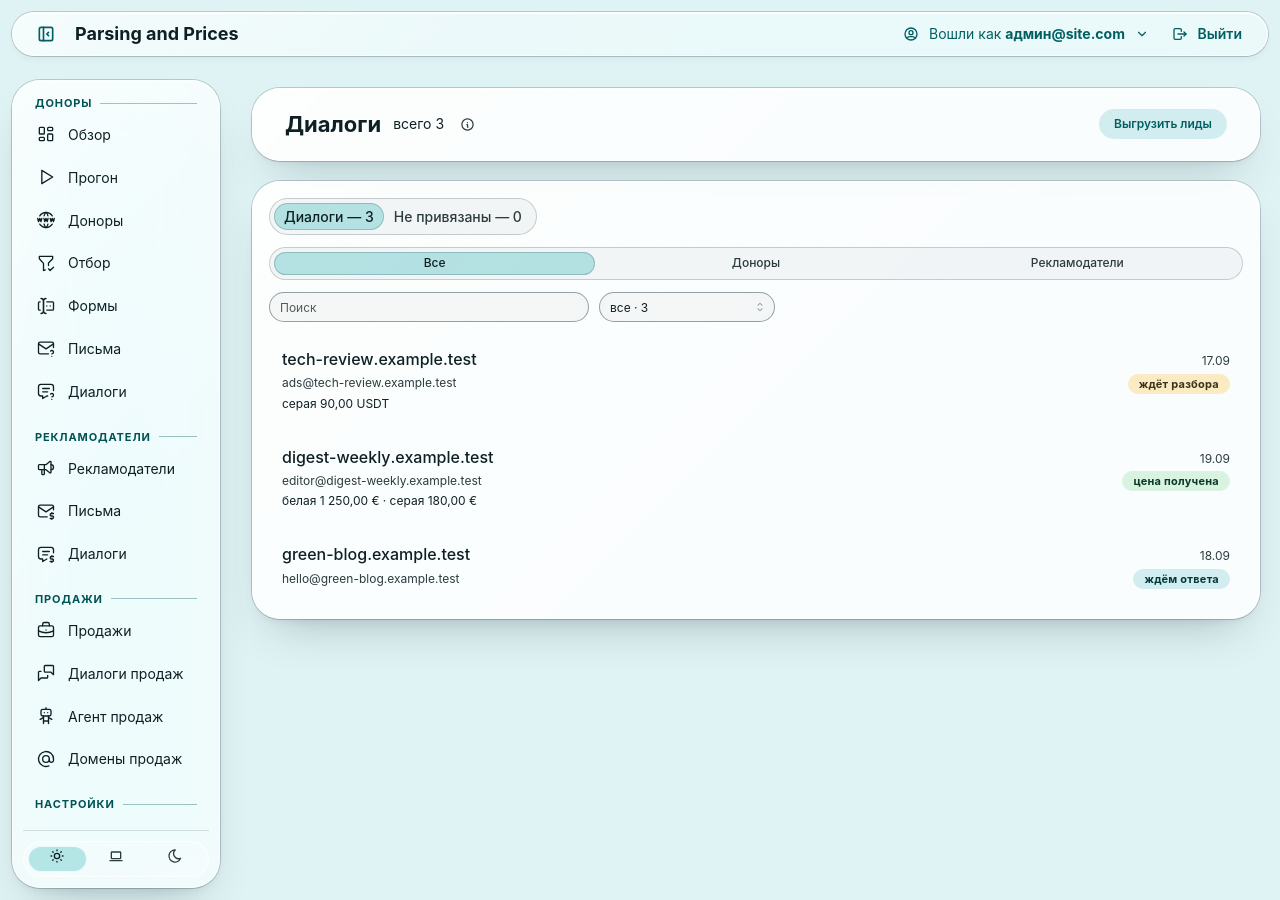
Test case: диалоги › фильтр состояния сужает список и пишет себя в адрес
Check: the text "digest-weekly.example.test" is shown, box [282, 445, 494, 470]
Click the field named "Состояние" at x=687, y=307, box [599, 292, 775, 322]
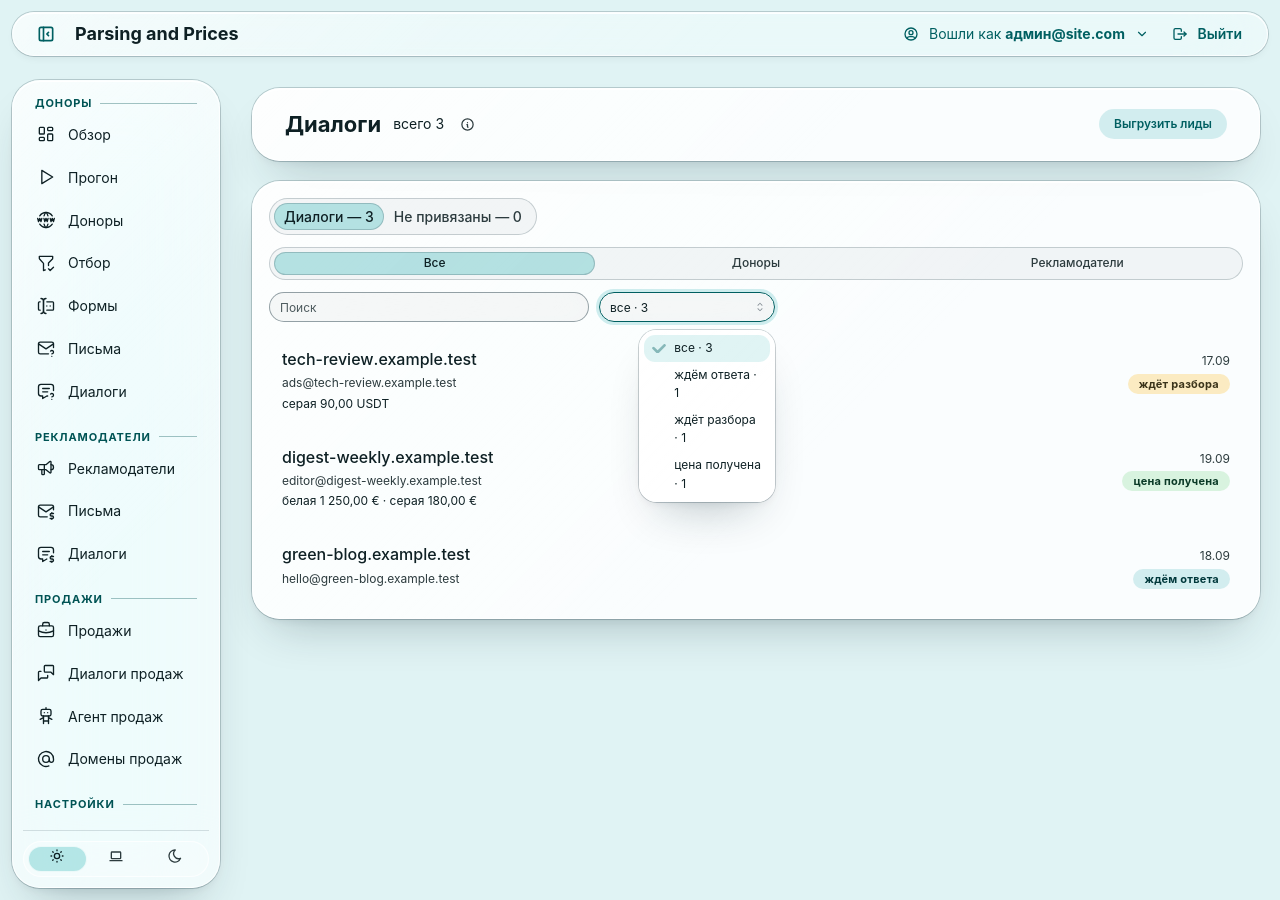
Click the option "ждём ответа · 1" at x=716, y=384, box [674, 367, 757, 400]
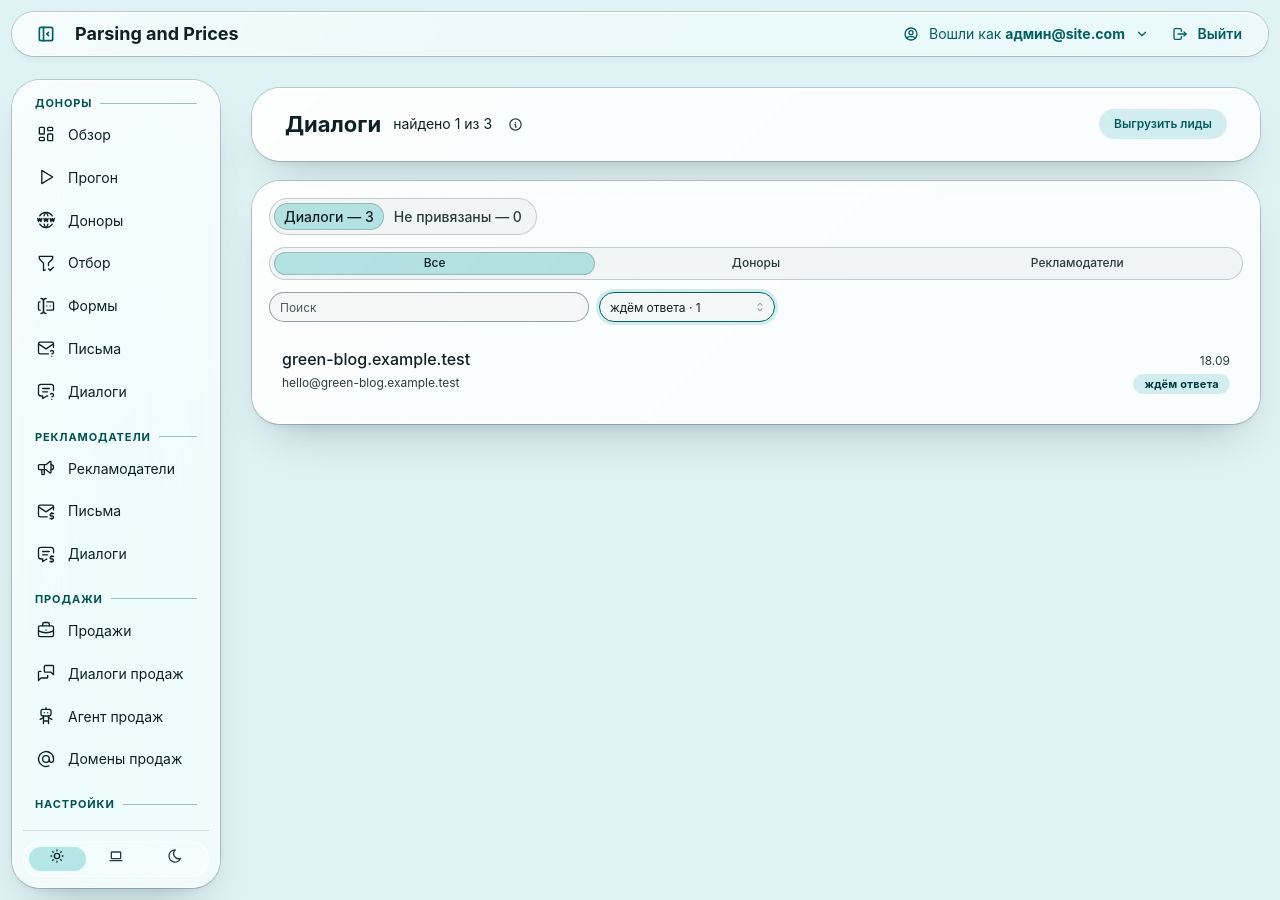
Check: the text "найдено 1 из 3" is shown, box [393, 114, 492, 134]
